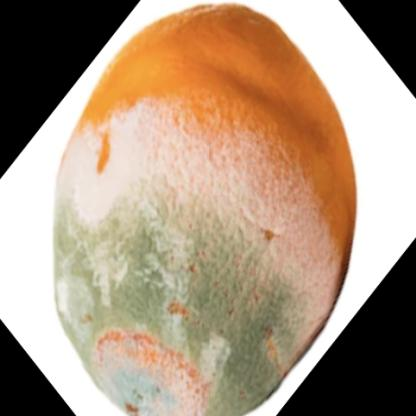rotten: (56, 2, 358, 416)
